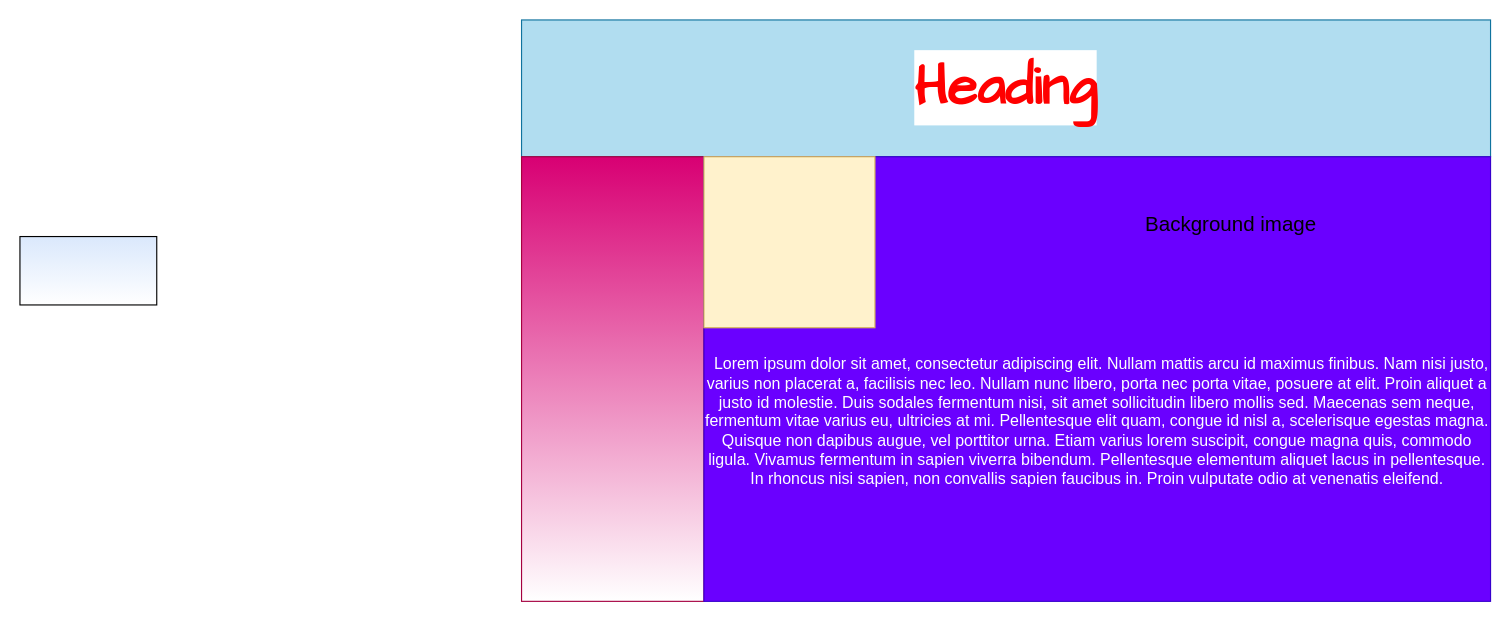
This 1511x621 diagram has some shape labels left out. The shapes that lost their labels are listed below. From the top down, each one's centre as x and y in pixels, then its label:
point (789, 242): Image
point (612, 378): Home About us Gallery Contact us
